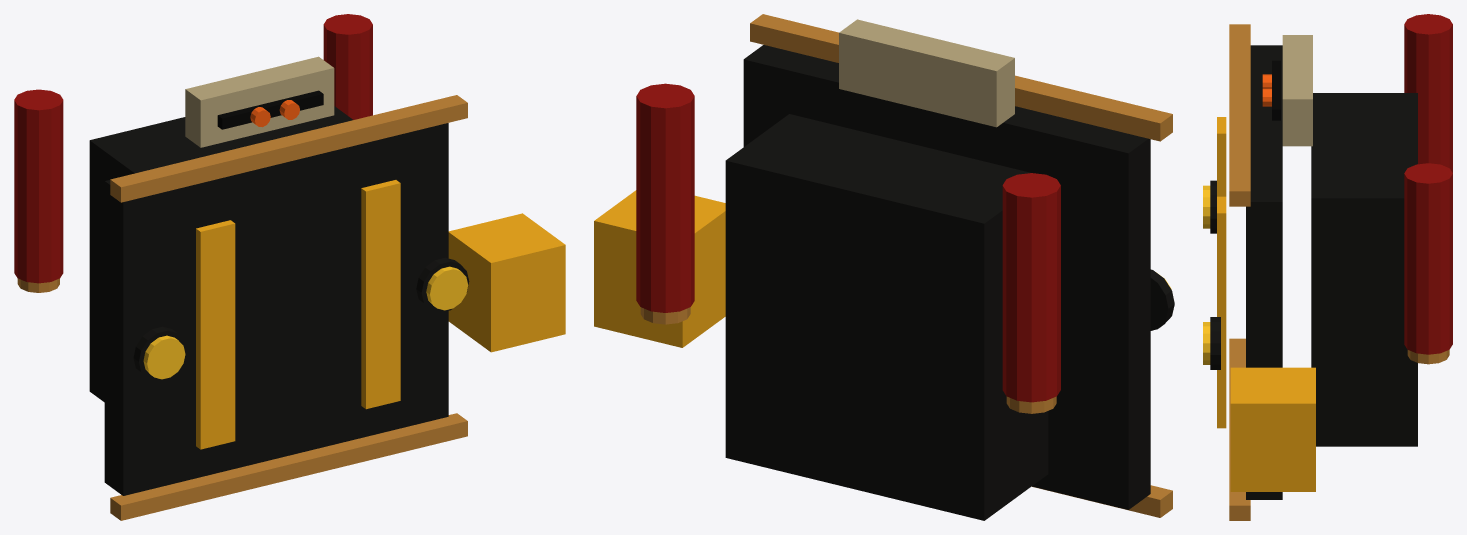
File: ENEMY_V0134_Bulwark_ReadabilityOverlay.obj
3 views of the same model, side by side, from view 1: azimuth 30°, elevation 25°; view 2: azimuth 150°, elevation 25°; view 3: azimuth 270°, elevation 25° (orthographic). The views are drawn at different scales.
Visible parts, largest first — view 1: bulwark_front_shield_door_first_read, bulwark_right_hammer_slam_tell_visible_past_shield, bulwark_broad_defender_silhouette_core, bulwark_left_shoulder_pressure_red_pressure_vessel, bulwark_brass_shield_top_edge, bulwark_left_hazard_shield_stripe, bulwark_right_hazard_shield_stripe, bulwark_brass_shield_bottom_edge, bulwark_cream_brow_face_above_shield, bulwark_right_shoulder_pressure_red_pressure_vessel, bulwark_left_side_weak_point_visible_around_shield_gold_glass, bulwark_right_side_weak_point_visible_around_shield_gold_glass (+3 smaller); view 2: bulwark_broad_defender_silhouette_core, bulwark_front_shield_door_first_read, bulwark_left_shoulder_pressure_red_pressure_vessel, bulwark_right_shoulder_pressure_red_pressure_vessel, bulwark_cream_brow_face_above_shield, bulwark_right_hammer_slam_tell_visible_past_shield, bulwark_brass_shield_top_edge, bulwark_left_side_weak_point_visible_around_shield_black_ring, bulwark_brass_shield_bottom_edge; view 3: bulwark_broad_defender_silhouette_core, bulwark_front_shield_door_first_read, bulwark_right_hammer_slam_tell_visible_past_shield, bulwark_right_shoulder_pressure_red_pressure_vessel, bulwark_left_shoulder_pressure_red_pressure_vessel, bulwark_brass_shield_top_edge, bulwark_cream_brow_face_above_shield, bulwark_right_hazard_shield_stripe, bulwark_brass_shield_bottom_edge, bulwark_left_hazard_shield_stripe, bulwark_right_side_weak_point_visible_around_shield_black_ring, bulwark_soot_brow_eye_slot (+4 smaller).
Part boxes in pixels (x1,y1,x2,y2): bulwark_front_shield_door_first_read: [104, 123, 448, 495]; bulwark_right_hammer_slam_tell_visible_past_shield: [448, 213, 565, 352]; bulwark_broad_defender_silhouette_core: [89, 106, 352, 402]; bulwark_left_shoulder_pressure_red_pressure_vessel: [14, 89, 63, 283]; bulwark_brass_shield_top_edge: [110, 95, 467, 202]; bulwark_left_hazard_shield_stripe: [196, 220, 235, 449]; bulwark_right_hazard_shield_stripe: [361, 180, 400, 409]; bulwark_brass_shield_bottom_edge: [110, 413, 467, 520]; bulwark_cream_brow_face_above_shield: [185, 56, 334, 147]; bulwark_right_shoulder_pressure_red_pressure_vessel: [323, 14, 372, 119]; bulwark_left_side_weak_point_visible_around_shield_gold_glass: [143, 335, 185, 379]; bulwark_right_side_weak_point_visible_around_shield_gold_glass: [426, 266, 468, 310]; bulwark_broad_defender_silhouette_core: [725, 114, 1048, 520]; bulwark_front_shield_door_first_read: [743, 45, 1150, 509]; bulwark_left_shoulder_pressure_red_pressure_vessel: [1002, 173, 1060, 402]; bulwark_right_shoulder_pressure_red_pressure_vessel: [636, 83, 694, 312]; bulwark_cream_brow_face_above_shield: [839, 19, 1014, 127]; bulwark_right_hammer_slam_tell_visible_past_shield: [594, 190, 725, 347]; bulwark_brass_shield_top_edge: [750, 14, 1172, 141]; bulwark_left_side_weak_point_visible_around_shield_black_ring: [1150, 269, 1174, 330]; bulwark_brass_shield_bottom_edge: [1032, 485, 1172, 517]; bulwark_broad_defender_silhouette_core: [1311, 93, 1417, 446]; bulwark_front_shield_door_first_read: [1246, 45, 1282, 499]; bulwark_right_hammer_slam_tell_visible_past_shield: [1230, 367, 1315, 491]; bulwark_right_shoulder_pressure_red_pressure_vessel: [1404, 163, 1452, 354]; bulwark_left_shoulder_pressure_red_pressure_vessel: [1404, 14, 1452, 172]; bulwark_brass_shield_top_edge: [1229, 24, 1250, 206]; bulwark_cream_brow_face_above_shield: [1282, 35, 1312, 146]; bulwark_right_hazard_shield_stripe: [1217, 196, 1226, 428]; bulwark_brass_shield_bottom_edge: [1229, 338, 1250, 520]; bulwark_left_hazard_shield_stripe: [1217, 117, 1226, 196]; bulwark_right_side_weak_point_visible_around_shield_black_ring: [1210, 317, 1220, 369]; bulwark_soot_brow_eye_slot: [1272, 60, 1280, 120].
Size of the model in its own units: 1.68 by 1.34 by 0.821.
